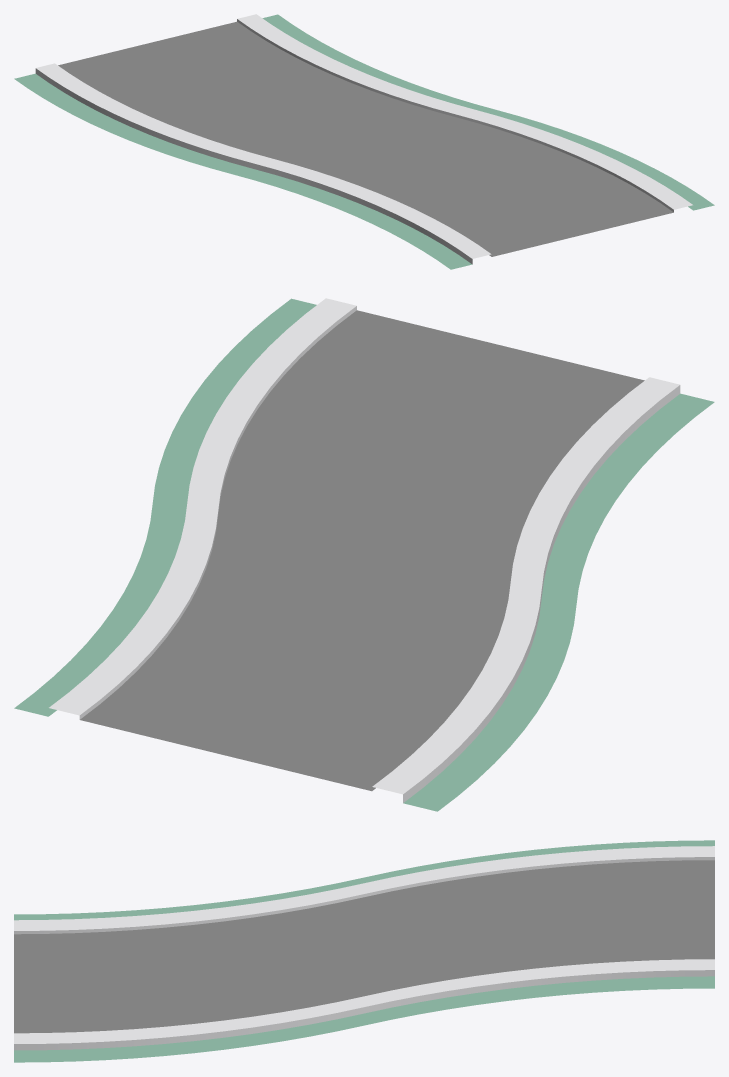
File: roadCurved.glb
The picture shows the model from 3 angles, top to bottom: view 1: azimuth 30°, elevation 25°; view 2: azimuth 150°, elevation 25°; view 3: azimuth 270°, elevation 25°; orthographic projection. The views are drawn at different scales.
Parts seen in each view (by area): view 1: roadCurved(Clone); view 2: roadCurved(Clone); view 3: roadCurved(Clone).
Part boxes in pixels (bbox=[...]): roadCurved(Clone): bbox=[14, 14, 714, 269]; roadCurved(Clone): bbox=[14, 298, 714, 811]; roadCurved(Clone): bbox=[14, 840, 714, 1062].
Size of the model in its own units: 1.5 by 0.02 by 2.
1 material, 1 textured.
